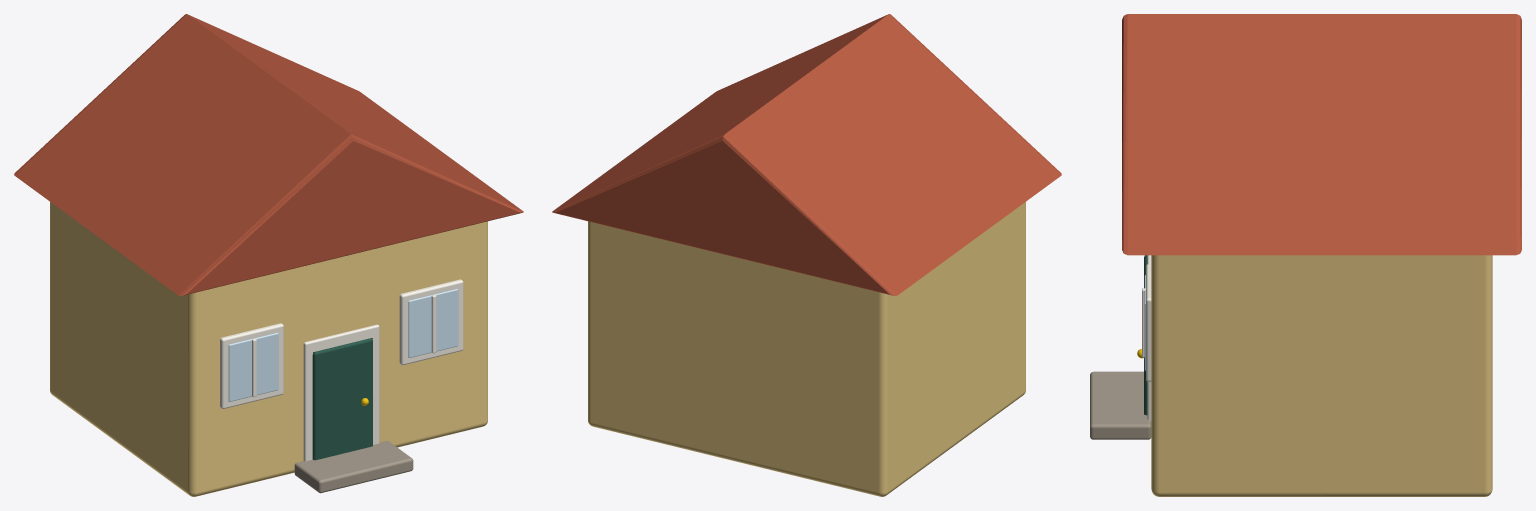
Rendered from maison_jaune_tuiles.glb.
3 views of the same model, side by side, from view 1: azimuth 30°, elevation 25°; view 2: azimuth 150°, elevation 25°; view 3: azimuth 270°, elevation 25° (orthographic). The views are drawn at different scales.
Parts seen in each view (by area): view 1: house; view 2: house; view 3: house.
Boxes of the visible parts, <box> form: house: <box>14,14,523,496</box>; house: <box>552,14,1061,496</box>; house: <box>1090,14,1521,496</box>.
Size of the model in its own units: 6.92 by 6.46 by 6.33.
